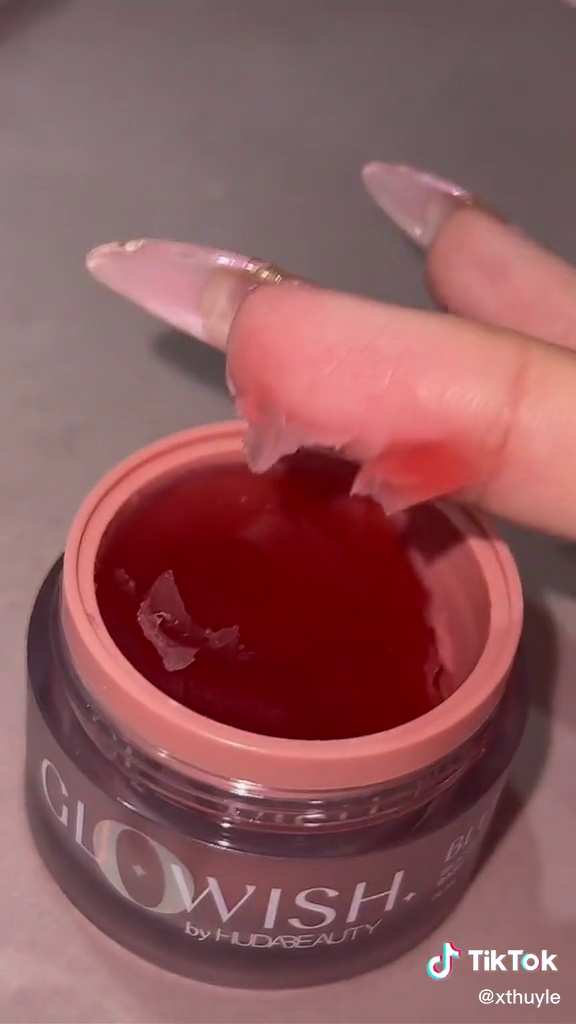train' :'yolo_data/train/images',: (18, 405, 547, 997)
